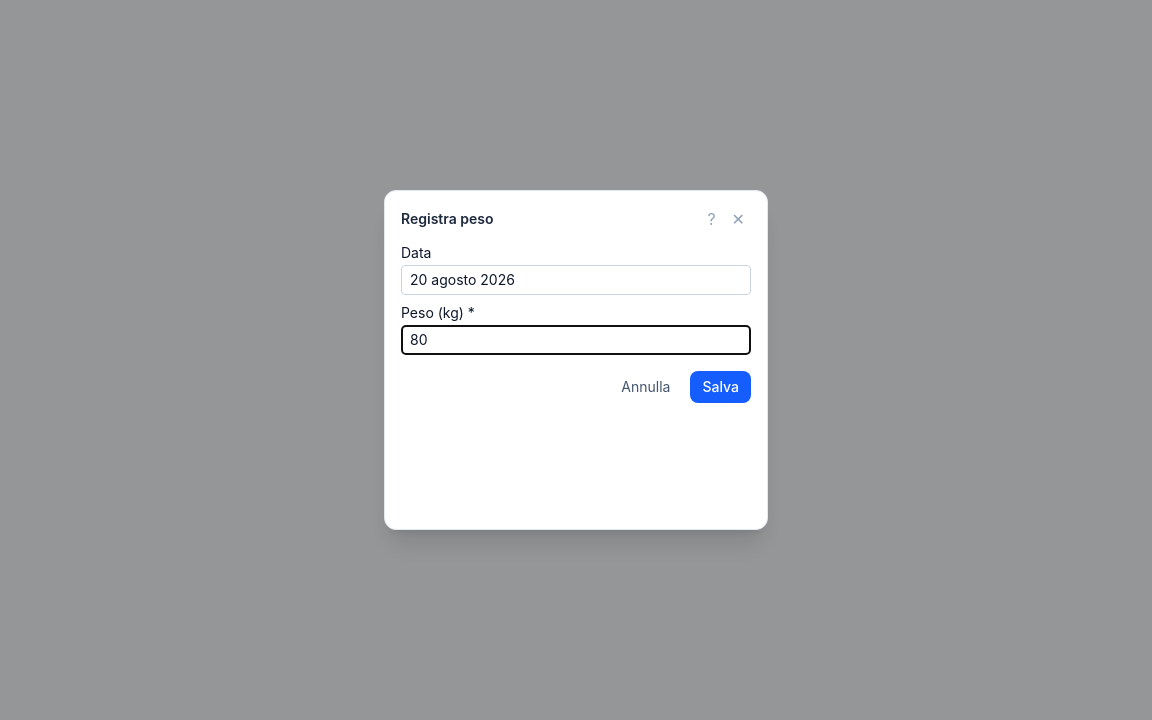
Scenario: WeightEntryModal › WeightEntryModal_clicSuAnnullaDopoUnaModifica_chiedeConfermaPrimaDiChiudere
The image size is (1152, 720).
Type "1" into the number field at {"x": 576, "y": 340}, box [401,325,751,355]
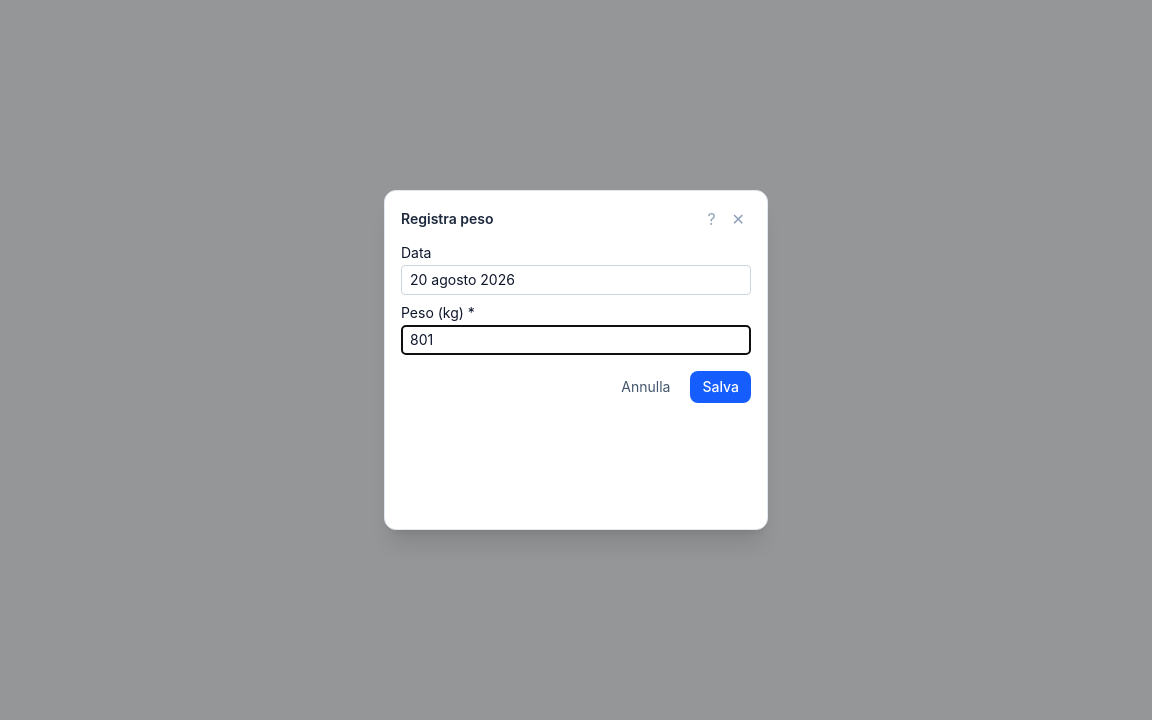
Click the button "Annulla" at {"x": 646, "y": 387}, box [609,371,682,403]
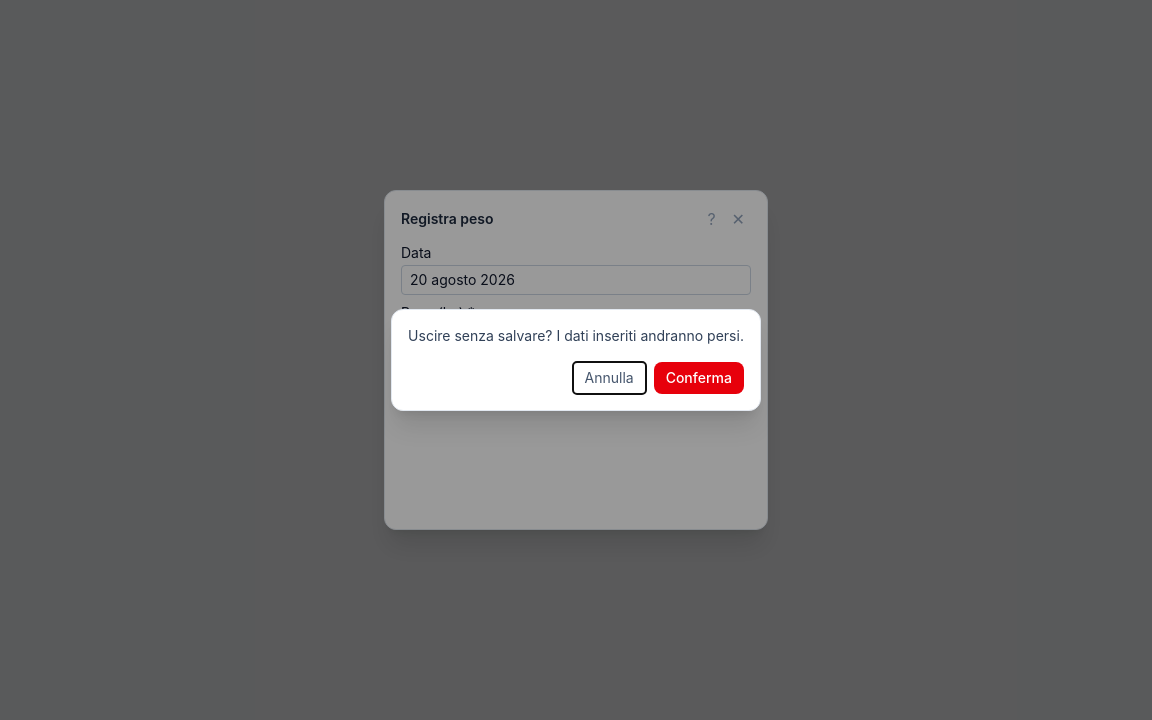
expect the text "Uscire senza salvare? I dati inseriti andranno persi." is shown: met, box [408,326,744,346]
